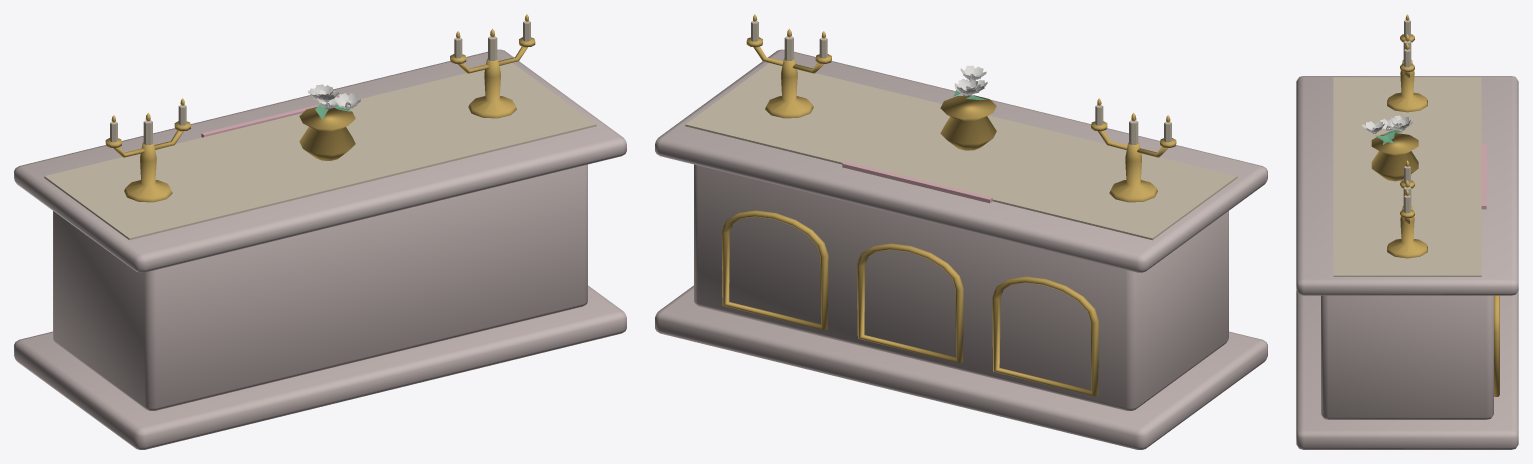
Rendered from altar_marble.glb.
3 views of the same model, side by side, from view 1: azimuth 30°, elevation 25°; view 2: azimuth 150°, elevation 25°; view 3: azimuth 270°, elevation 25° (orthographic). The views are drawn at different scales.
Parts seen in each view (by area): view 1: altar_marble; view 2: altar_marble; view 3: altar_marble.
Boxes of the visible parts, x1,y1,x2,y2 form: altar_marble: [14, 14, 626, 449]; altar_marble: [655, 14, 1267, 449]; altar_marble: [1296, 14, 1518, 449].
Size of what is drawn, in the model's own units: 2 by 1.1 by 0.9.
